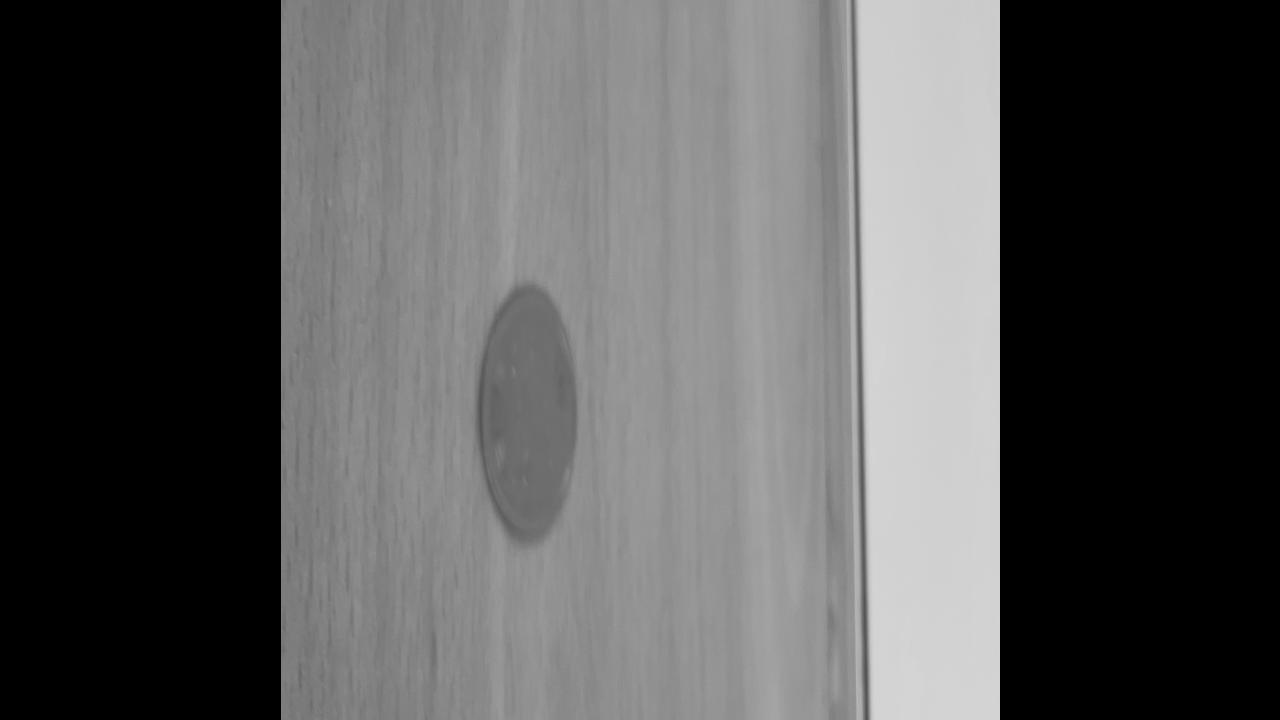coin: (478, 285, 578, 541)
